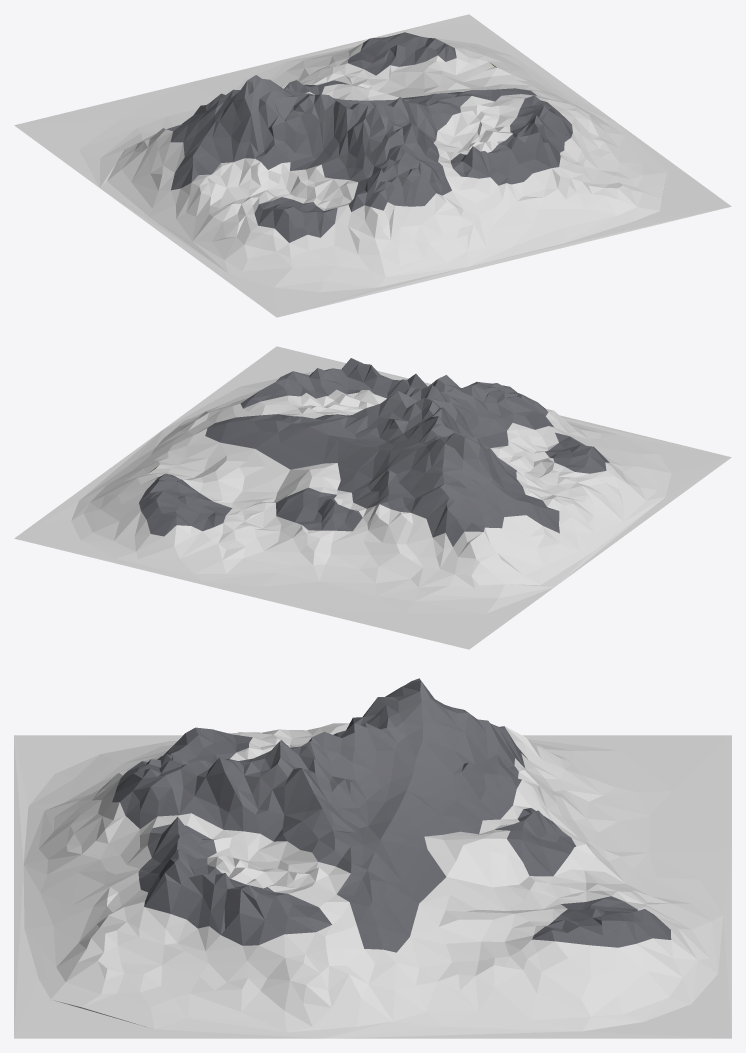
File: Landscape_04.fbx
3 views of the same model, one above another, from view 1: azimuth 30°, elevation 25°; view 2: azimuth 150°, elevation 25°; view 3: azimuth 270°, elevation 25° (orthographic). The views are drawn at different scales.
Parts seen in each view (by area): view 1: Landscape_04; view 2: Landscape_04; view 3: Landscape_04.
Boxes of the visible parts, x1=… form: Landscape_04: x1=14, y1=14, x2=731, y2=317; Landscape_04: x1=14, y1=346, x2=731, y2=649; Landscape_04: x1=14, y1=678, x2=731, y2=1038.
Size of the model in its own units: 10000 by 2154 by 10000.
